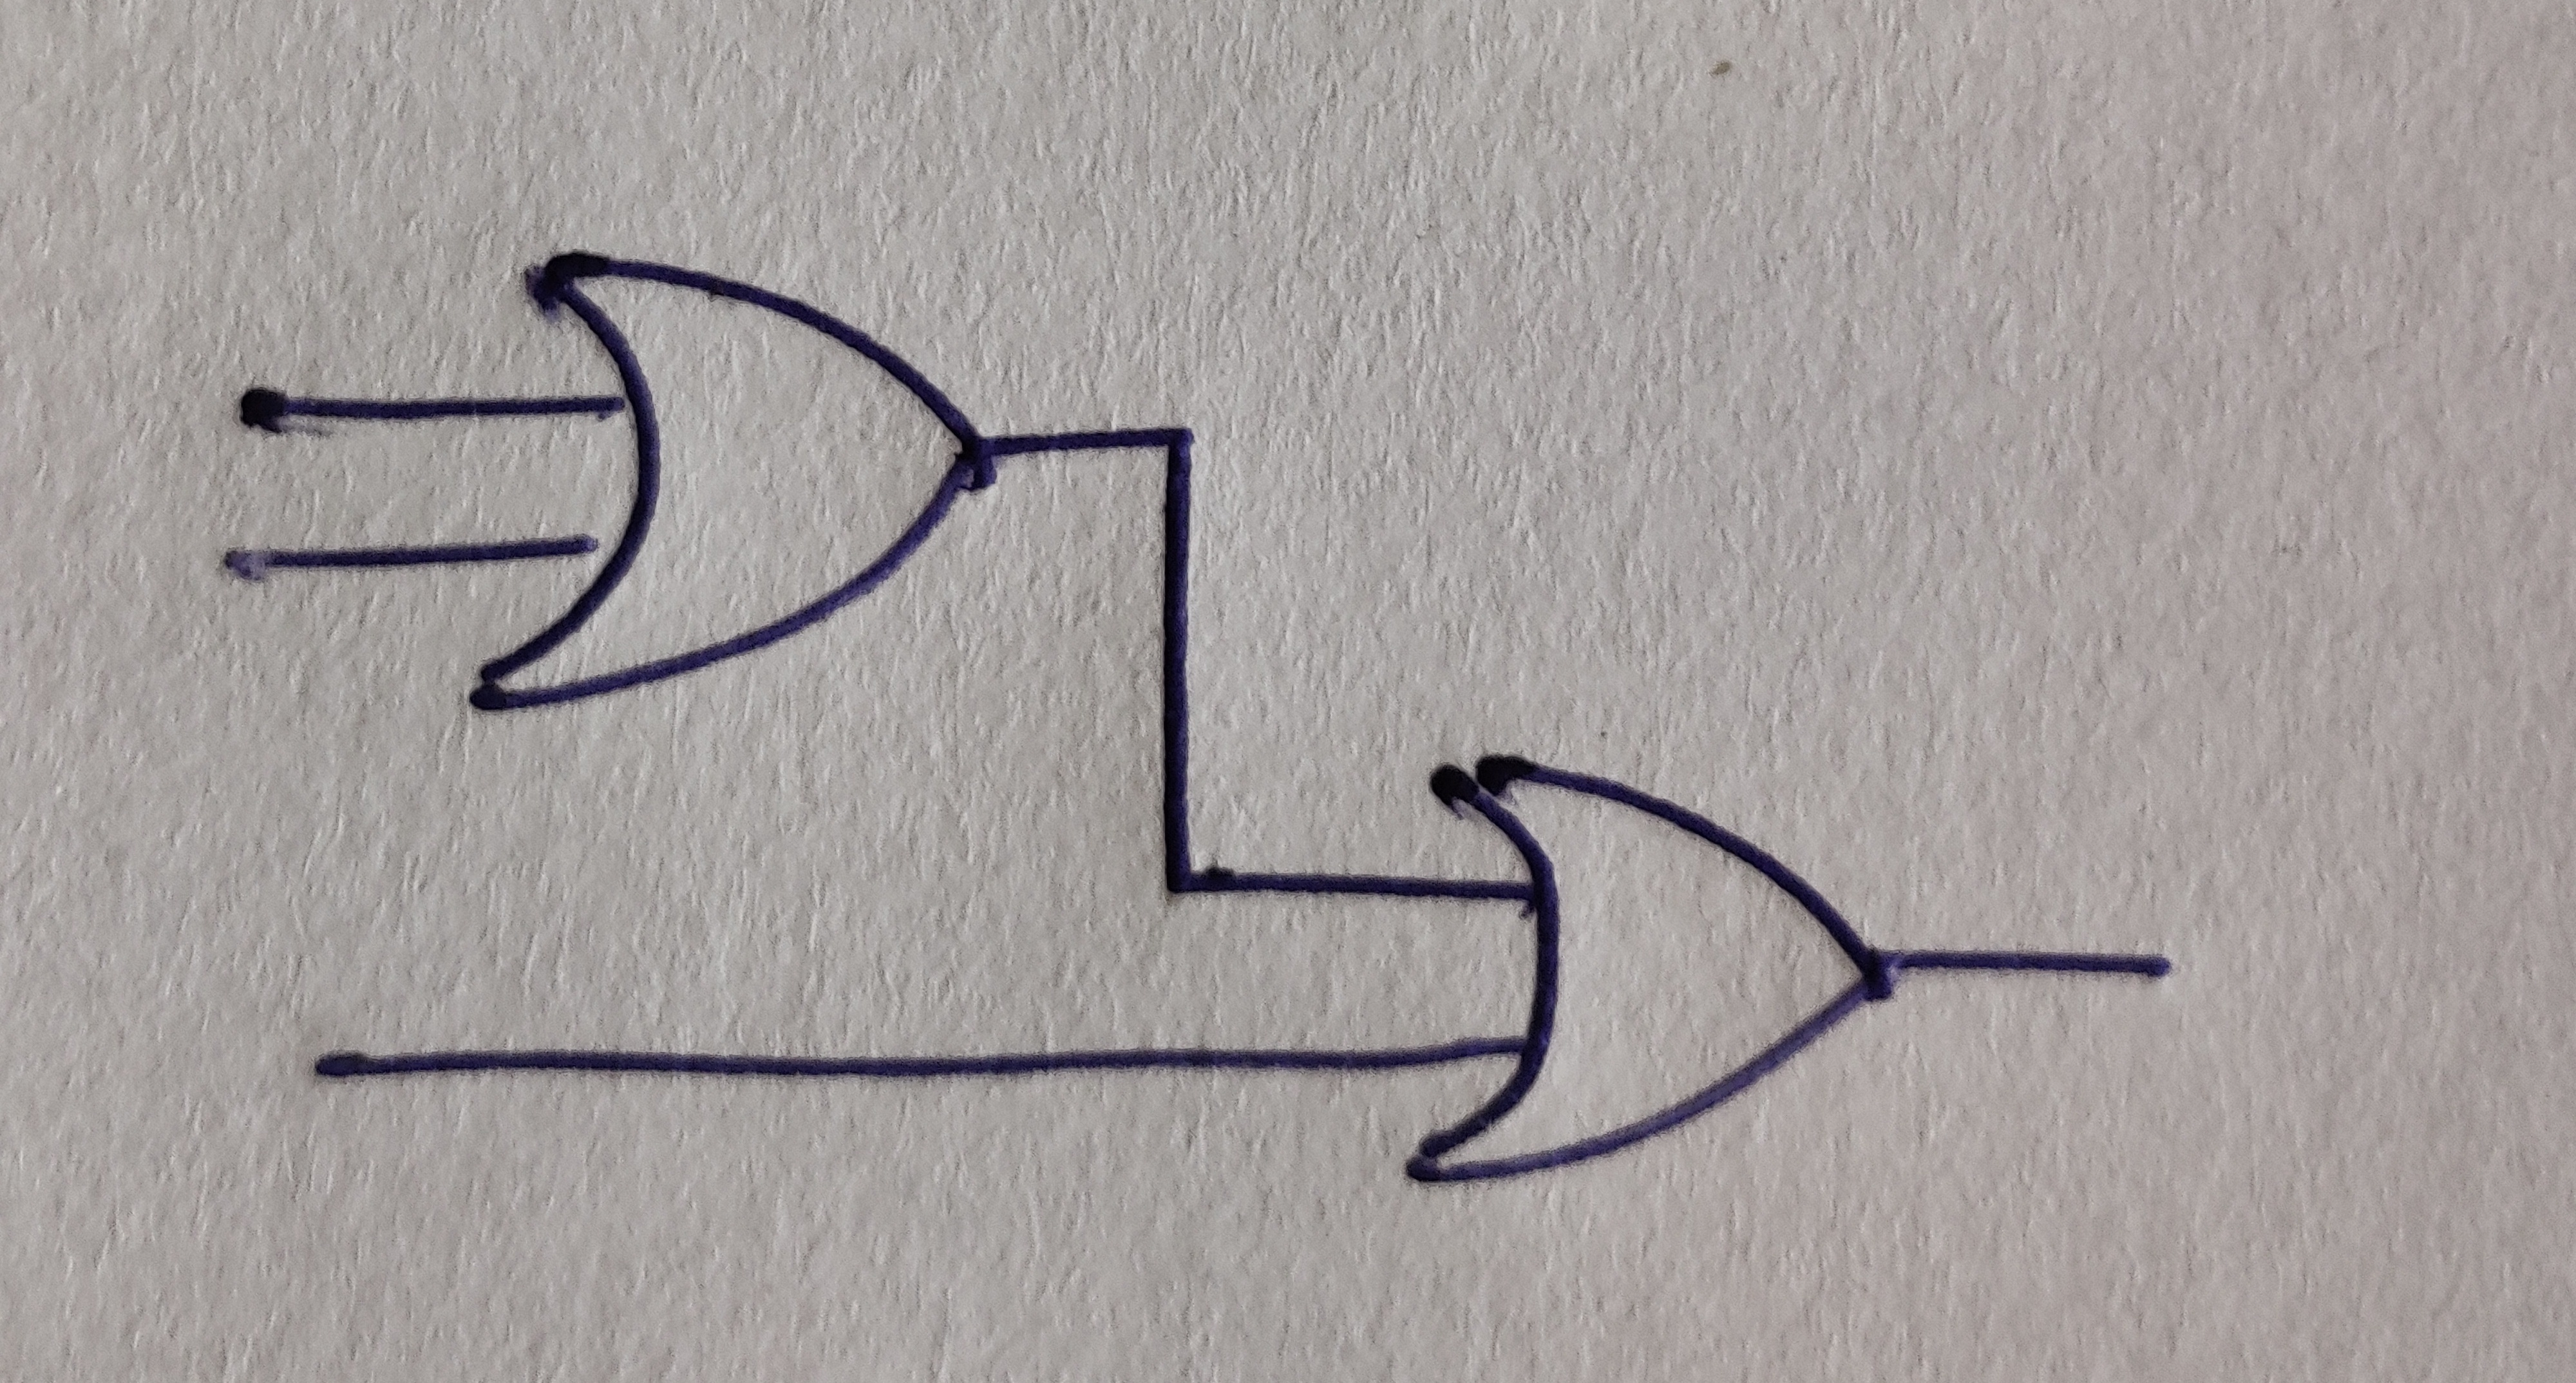or: (467, 255, 998, 710), (1407, 758, 1895, 1182)
